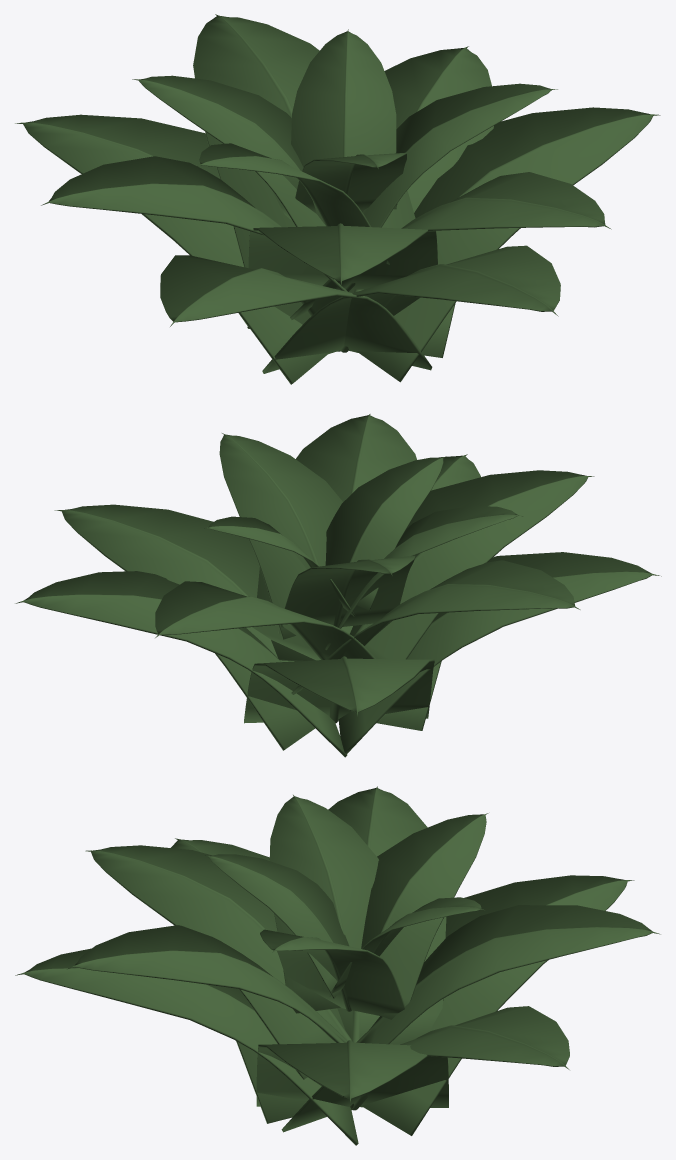
Rendered from Bodenpflanze 2.fbx.
3 views of the same model, one above another, from view 1: azimuth 30°, elevation 25°; view 2: azimuth 150°, elevation 25°; view 3: azimuth 270°, elevation 25° (orthographic). The views are drawn at different scales.
Parts seen in each view (by area): view 1: BezierCurve.000; view 2: BezierCurve.000; view 3: BezierCurve.000.
Boxes of the visible parts, left/top/right/bottom form: BezierCurve.000: left=15, top=14, right=660, bottom=384; BezierCurve.000: left=15, top=414, right=661, bottom=757; BezierCurve.000: left=15, top=786, right=660, bottom=1145.
Bounding box in the file's own units: 3.67 × 1.44 × 3.65.
